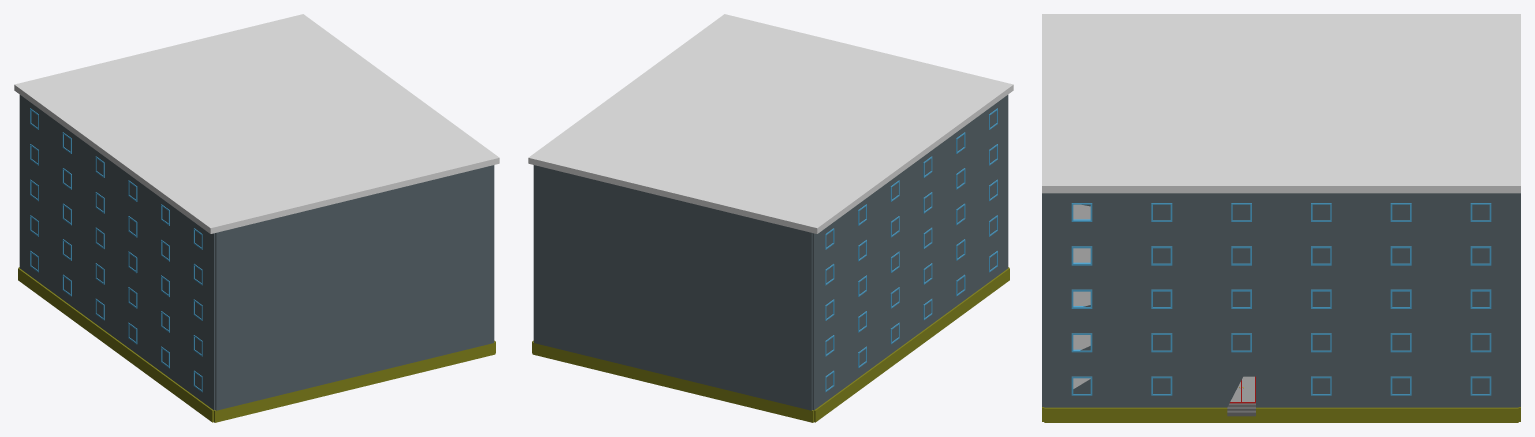
3 renders of one model, left to right at view 1: azimuth 30°, elevation 25°; view 2: azimuth 150°, elevation 25°; view 3: azimuth 270°, elevation 25°, orthographic. The views are drawn at different scales.
Parts seen in each view (by area): view 1: BR30_F05_02; view 2: BR30_F05_02; view 3: BR30_F05_02.
Part boxes in pixels (x1,y1,x2,y2): BR30_F05_02: (14, 14, 499, 422); BR30_F05_02: (528, 14, 1013, 422); BR30_F05_02: (1042, 14, 1520, 422).
Size of the model in its own units: 2550 by 1650 by 3000.
